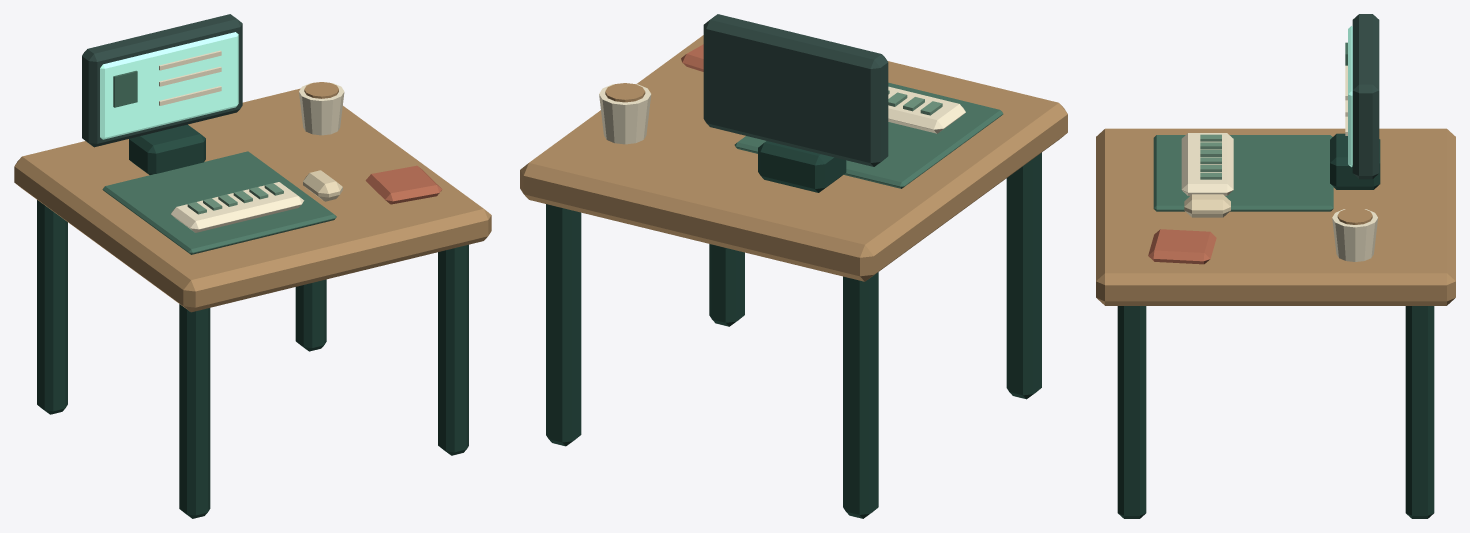
The model's file is desk.glb.
The picture shows the model from 3 angles, left to right: view 1: azimuth 30°, elevation 25°; view 2: azimuth 150°, elevation 25°; view 3: azimuth 270°, elevation 25°; orthographic projection. The views are drawn at different scales.
Parts seen in each view (by area): view 1: wood_Asset_desk, deep_Asset_desk, green_Asset_desk, screen_Asset_desk, outline_Asset_desk, ivory_Asset_desk, earth_Asset_desk, sage_Asset_desk, cream_Asset_desk; view 2: wood_Asset_desk, deep_Asset_desk, outline_Asset_desk, green_Asset_desk, ivory_Asset_desk; view 3: wood_Asset_desk, deep_Asset_desk, green_Asset_desk, outline_Asset_desk, ivory_Asset_desk, earth_Asset_desk, cream_Asset_desk, sage_Asset_desk, screen_Asset_desk.
Part boxes in pixels (x1=…): wood_Asset_desk: x1=14, y1=82, x2=491, y2=312; deep_Asset_desk: x1=37, y1=124, x2=468, y2=518; green_Asset_desk: x1=102, y1=70, x2=336, y2=254; screen_Asset_desk: x1=100, y1=32, x2=238, y2=139; outline_Asset_desk: x1=82, y1=14, x2=242, y2=147; ivory_Asset_desk: x1=159, y1=50, x2=344, y2=232; earth_Asset_desk: x1=365, y1=165, x2=442, y2=204; sage_Asset_desk: x1=187, y1=183, x2=283, y2=214; cream_Asset_desk: x1=303, y1=170, x2=342, y2=201; wood_Asset_desk: x1=520, y1=35, x2=1067, y2=281; deep_Asset_desk: x1=546, y1=141, x2=1041, y2=518; outline_Asset_desk: x1=703, y1=14, x2=888, y2=166; green_Asset_desk: x1=734, y1=82, x2=1003, y2=188; ivory_Asset_desk: x1=599, y1=84, x2=965, y2=144; wood_Asset_desk: x1=1096, y1=128, x2=1455, y2=305; deep_Asset_desk: x1=1117, y1=133, x2=1434, y2=518; green_Asset_desk: x1=1153, y1=42, x2=1347, y2=211; outline_Asset_desk: x1=1352, y1=14, x2=1379, y2=179; ivory_Asset_desk: x1=1181, y1=65, x2=1377, y2=261; earth_Asset_desk: x1=1148, y1=229, x2=1216, y2=264; cream_Asset_desk: x1=1184, y1=194, x2=1230, y2=217; sage_Asset_desk: x1=1200, y1=134, x2=1221, y2=179; screen_Asset_desk: x1=1348, y1=26, x2=1352, y2=167.
Bounding box in the file's own units: 1 × 1.16 × 1.
